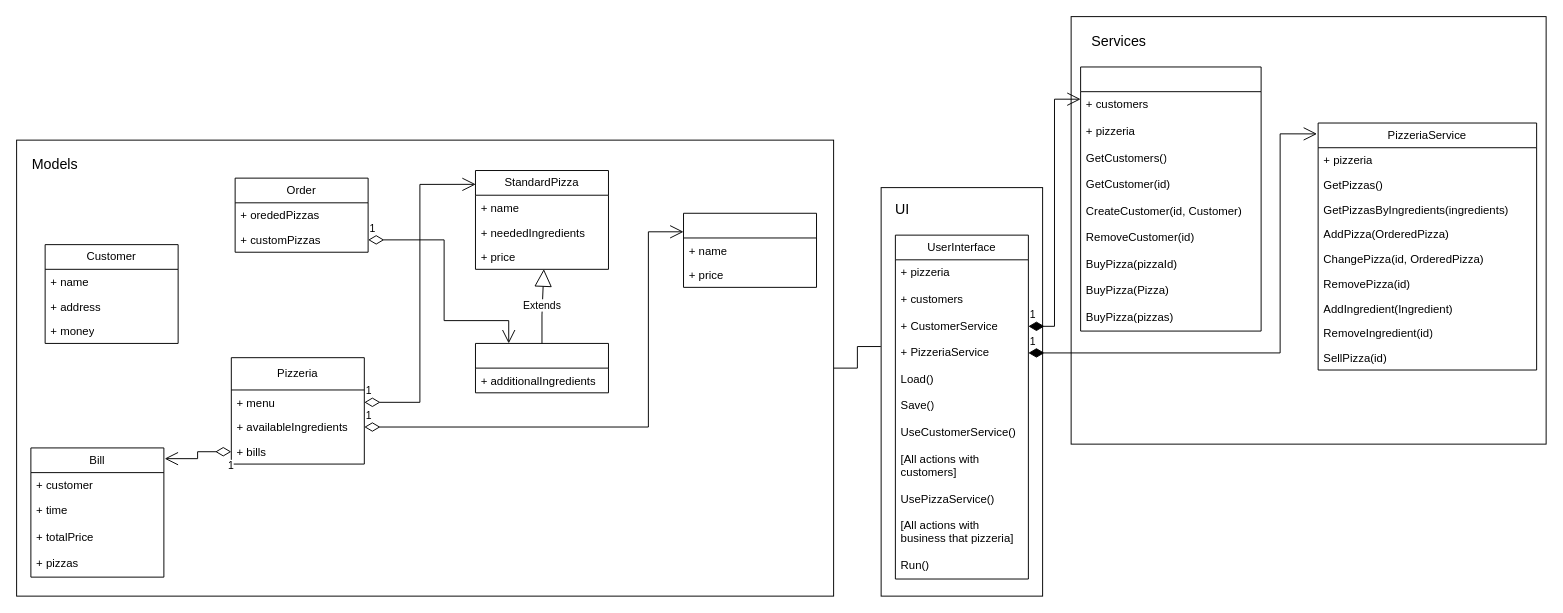
Some shapes in this 1563 by 613 pixel diagram are drawn without their labels. The shapes that lost their labels are listed below. From the top down, each one's box as (x1, y1, x2, y2) in pixels, then its label:
(1080, 66, 1261, 331): CustomerService
(683, 212, 817, 287): Ingredient
(475, 342, 608, 393): CustomPizza
